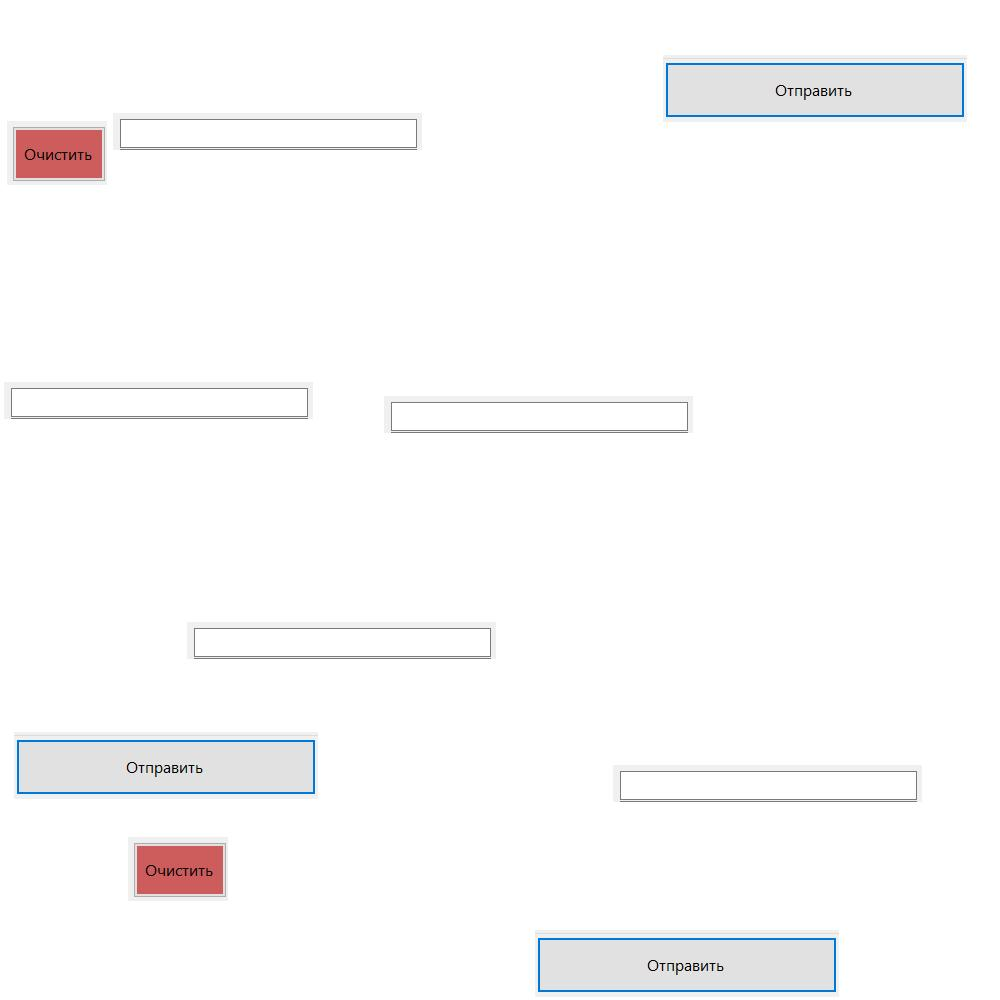Button: (663, 55, 967, 122), (535, 930, 839, 997), (14, 732, 318, 799), (128, 837, 228, 901), (7, 121, 107, 185)
EditText-: (187, 622, 496, 659), (384, 396, 693, 433), (4, 382, 313, 419), (613, 765, 922, 802), (113, 113, 422, 150)
